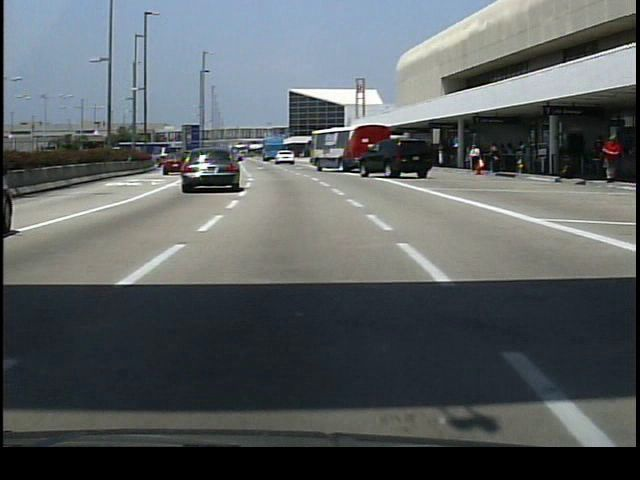person: (599, 134, 624, 185), (468, 142, 484, 178)
